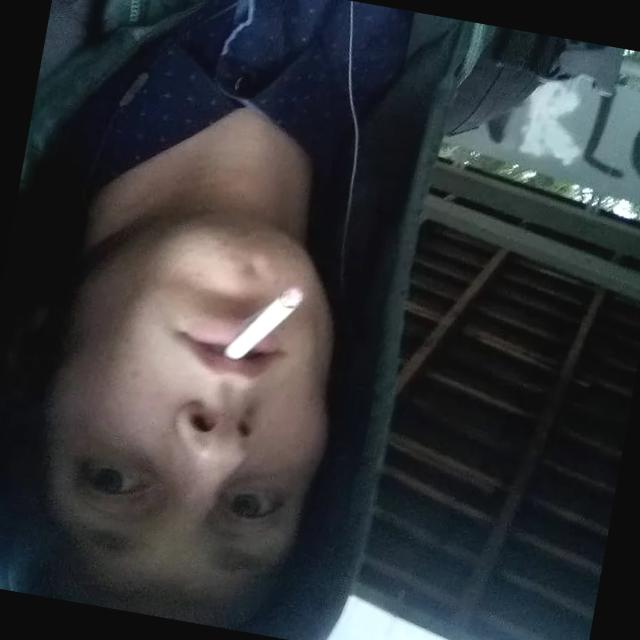smoke: (220, 272, 311, 376)
